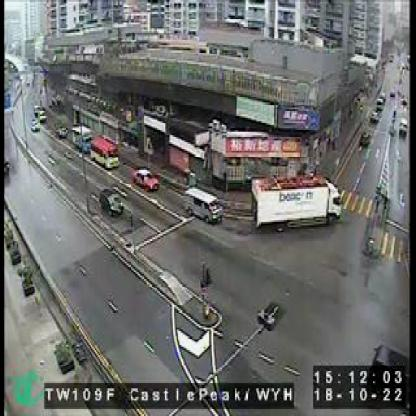Car: (185, 187, 222, 225), (100, 188, 126, 218), (133, 167, 161, 194), (399, 118, 410, 140), (359, 131, 371, 151), (35, 107, 48, 124), (368, 111, 379, 127), (56, 128, 67, 140), (31, 122, 42, 134)
Minibus: (90, 136, 120, 172)
Truck: (250, 171, 342, 230), (71, 126, 94, 153)
